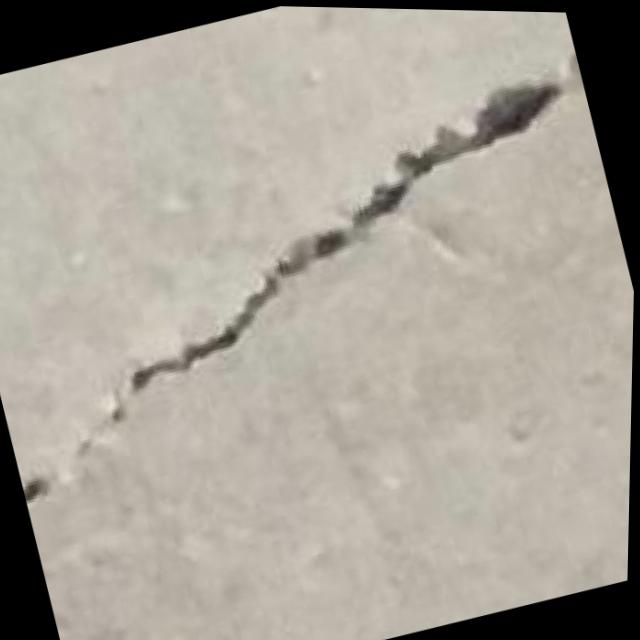Crack: (0, 51, 639, 535)
